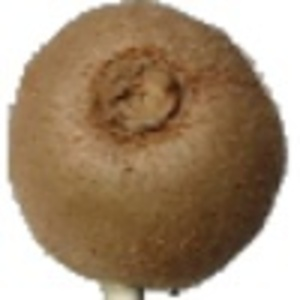kiwi: (5, 1, 289, 300)
